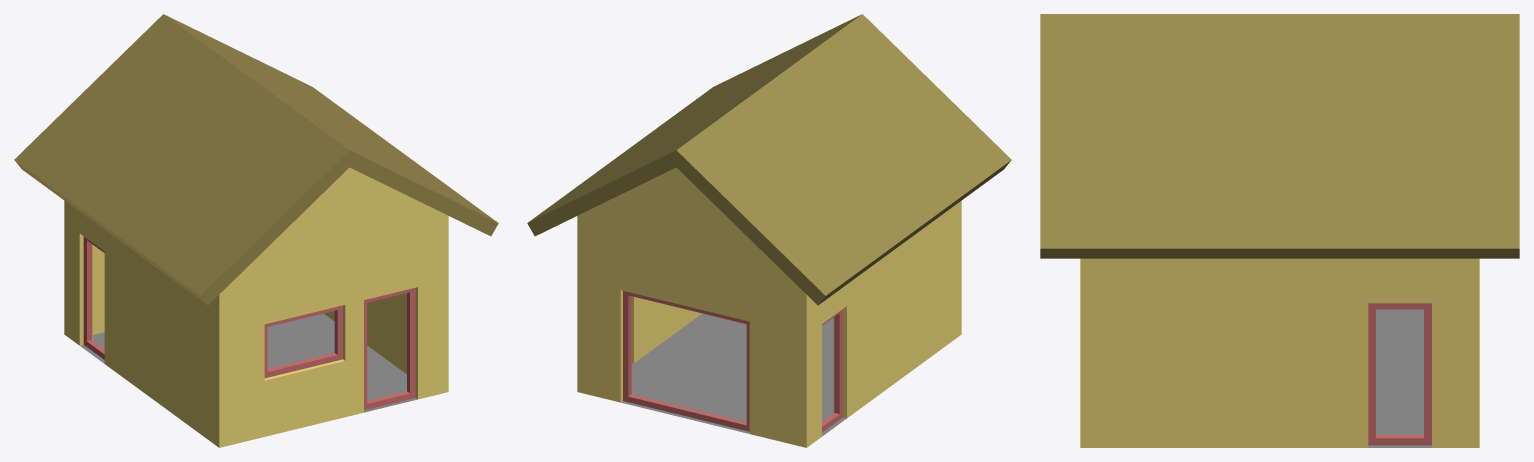
The model's file is result.glb.
The picture shows the model from 3 angles, left to right: view 1: azimuth 30°, elevation 25°; view 2: azimuth 150°, elevation 25°; view 3: azimuth 270°, elevation 25°; orthographic projection. The views are drawn at different scales.
Visible parts, largest first — view 1: e2af38b6-3ded-477e-95f9-31bc45ea5dd3__undefined (×2), 77adba22-b5f0-4a0c-bedb-ed7235927091__undefined, deeefd9e-0f31-4bd1-8efa-f901ff20eb06__Plane_6, 29bac217-1e49-4328-b6f1-e36456e3f032__Box, c2e30666-6351-4fbd-a937-f61ced2be17e__Box_3, f71b83e1-a8d8-4b2d-8b2e-8e945c793dd8__Box_12; view 2: e2af38b6-3ded-477e-95f9-31bc45ea5dd3__undefined (×2), 77adba22-b5f0-4a0c-bedb-ed7235927091__undefined, deeefd9e-0f31-4bd1-8efa-f901ff20eb06__Plane_6, 88a73872-fca0-4048-84ea-0a7298f23dcb__Box_9, f71b83e1-a8d8-4b2d-8b2e-8e945c793dd8__Box_12; view 3: e2af38b6-3ded-477e-95f9-31bc45ea5dd3__undefined, 77adba22-b5f0-4a0c-bedb-ed7235927091__undefined, deeefd9e-0f31-4bd1-8efa-f901ff20eb06__Plane_6, 80d8462a-20e7-4a3f-b6db-43646135b8da__Box_15.
Boxes of the visible parts, x1,y1,x2,y2 form: e2af38b6-3ded-477e-95f9-31bc45ea5dd3__undefined (×2): [14, 14, 498, 305]; 77adba22-b5f0-4a0c-bedb-ed7235927091__undefined: [64, 167, 448, 447]; deeefd9e-0f31-4bd1-8efa-f901ff20eb06__Plane_6: [80, 313, 417, 412]; 29bac217-1e49-4328-b6f1-e36456e3f032__Box: [364, 287, 415, 410]; c2e30666-6351-4fbd-a937-f61ced2be17e__Box_3: [264, 305, 342, 378]; f71b83e1-a8d8-4b2d-8b2e-8e945c793dd8__Box_12: [83, 236, 104, 359]; e2af38b6-3ded-477e-95f9-31bc45ea5dd3__undefined (×2): [527, 14, 1011, 305]; 77adba22-b5f0-4a0c-bedb-ed7235927091__undefined: [577, 167, 961, 447]; deeefd9e-0f31-4bd1-8efa-f901ff20eb06__Plane_6: [621, 313, 846, 436]; 88a73872-fca0-4048-84ea-0a7298f23dcb__Box_9: [623, 291, 749, 431]; f71b83e1-a8d8-4b2d-8b2e-8e945c793dd8__Box_12: [822, 309, 842, 432]; e2af38b6-3ded-477e-95f9-31bc45ea5dd3__undefined: [1040, 14, 1519, 258]; 77adba22-b5f0-4a0c-bedb-ed7235927091__undefined: [1080, 258, 1479, 447]; deeefd9e-0f31-4bd1-8efa-f901ff20eb06__Plane_6: [1368, 309, 1431, 447]; 80d8462a-20e7-4a3f-b6db-43646135b8da__Box_15: [1368, 303, 1431, 445].
Size of the model in its own units: 556 by 500 by 600.
